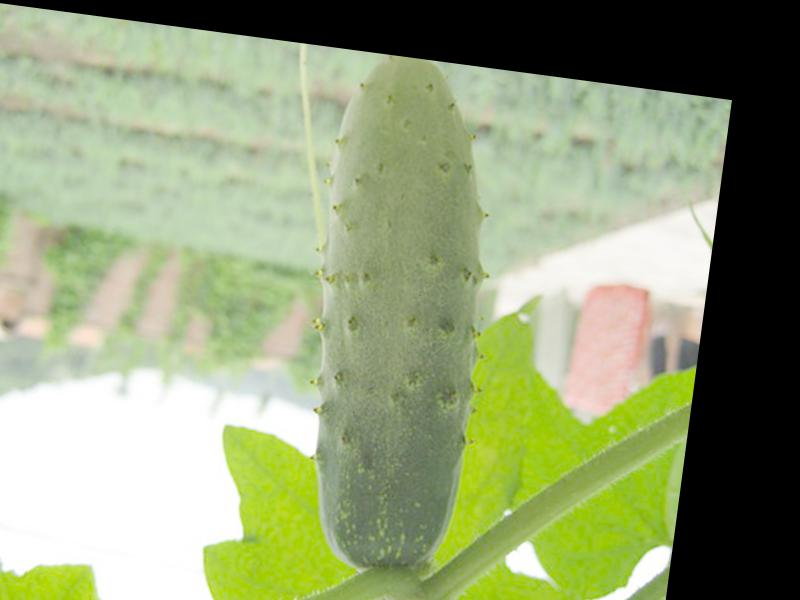Cucumber: (283, 50, 513, 579)
